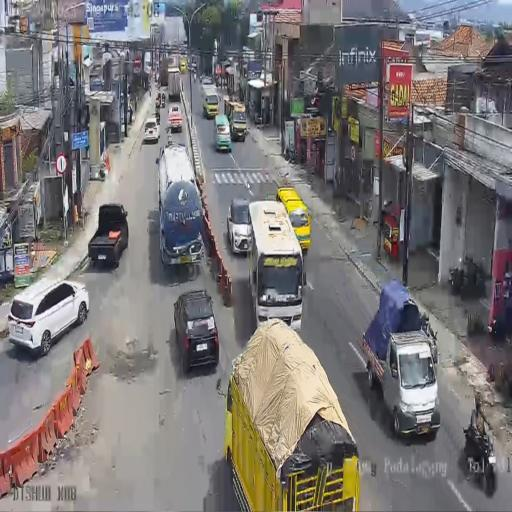car: (6, 274, 89, 352), (172, 290, 218, 375), (88, 202, 130, 267), (276, 186, 311, 252), (226, 196, 252, 254), (203, 88, 219, 119), (144, 116, 160, 143), (168, 105, 182, 133), (201, 75, 213, 85)
truck: (227, 321, 356, 512), (362, 284, 438, 438), (224, 98, 247, 142), (166, 67, 181, 101), (143, 50, 153, 82), (189, 55, 197, 74), (179, 56, 187, 73)
